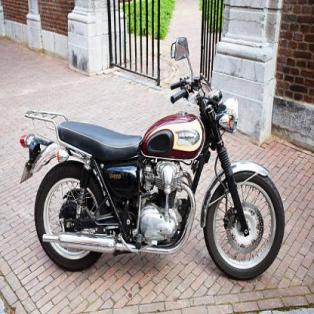Motocicleta: (11, 33, 288, 281)
